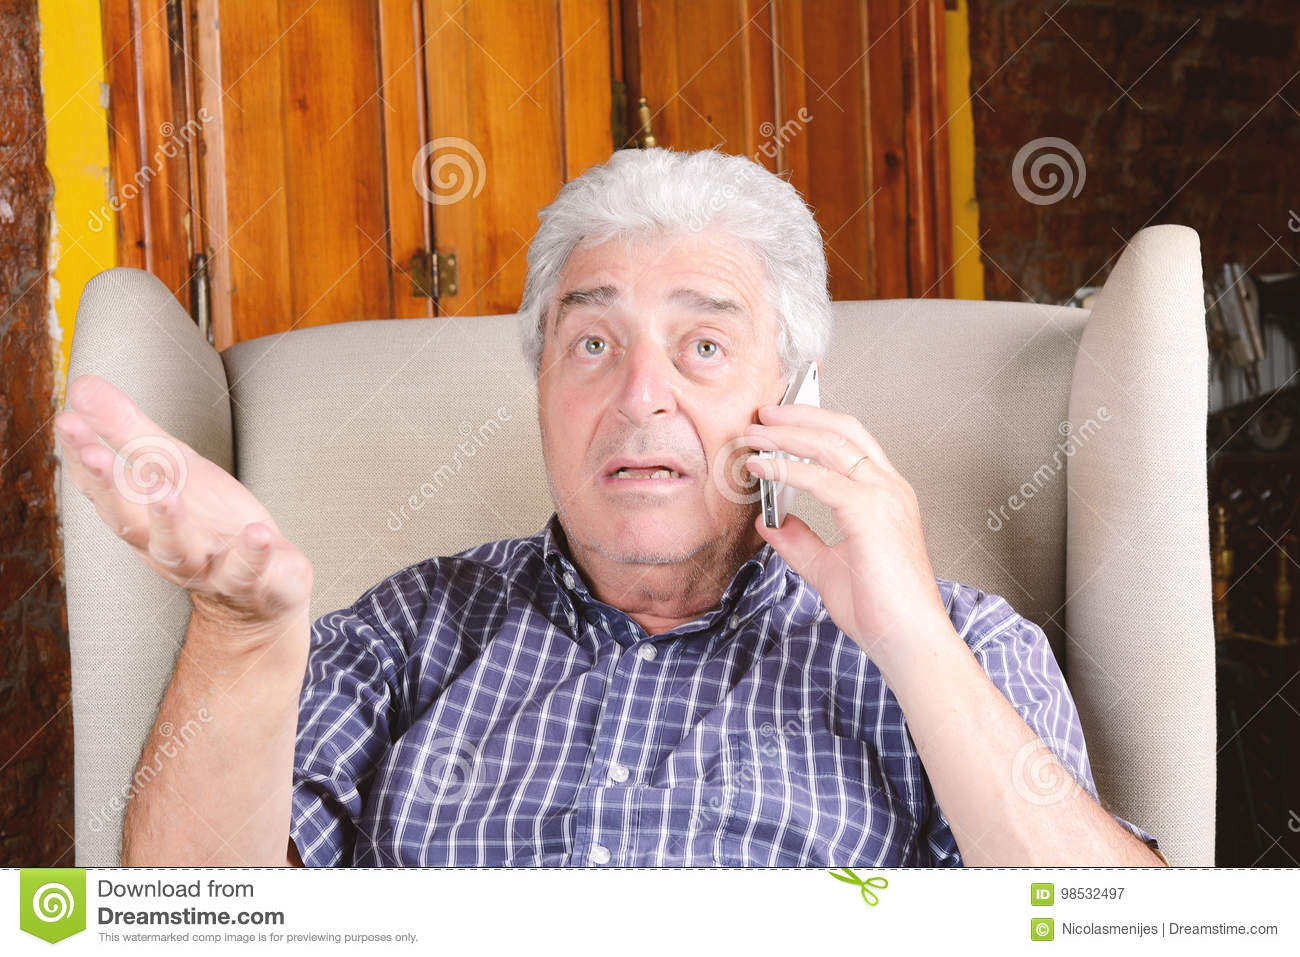phone: (753, 364, 827, 528)
talk: (538, 278, 936, 661)
